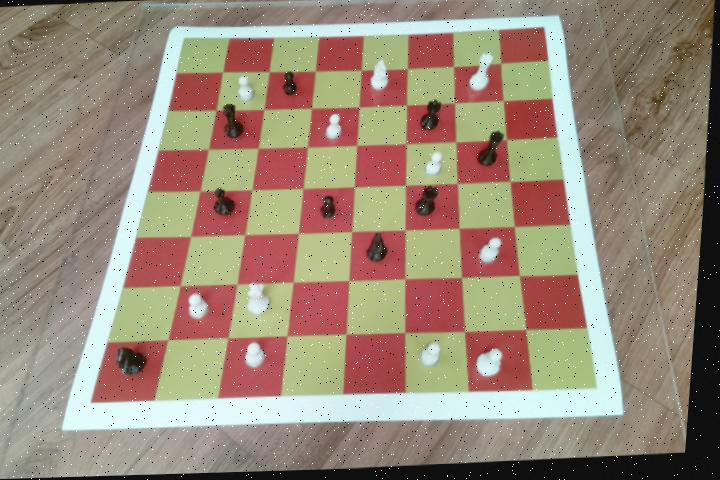chessboard-detect: (95, 29, 602, 401)
